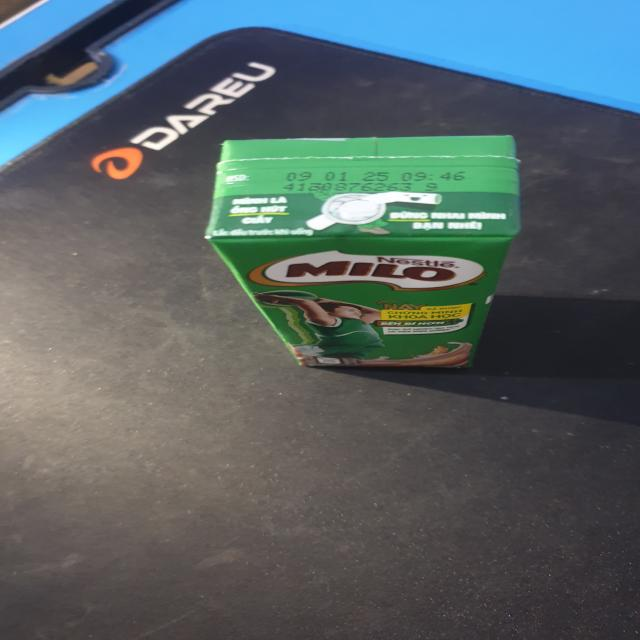Milo: (201, 133, 524, 375)
